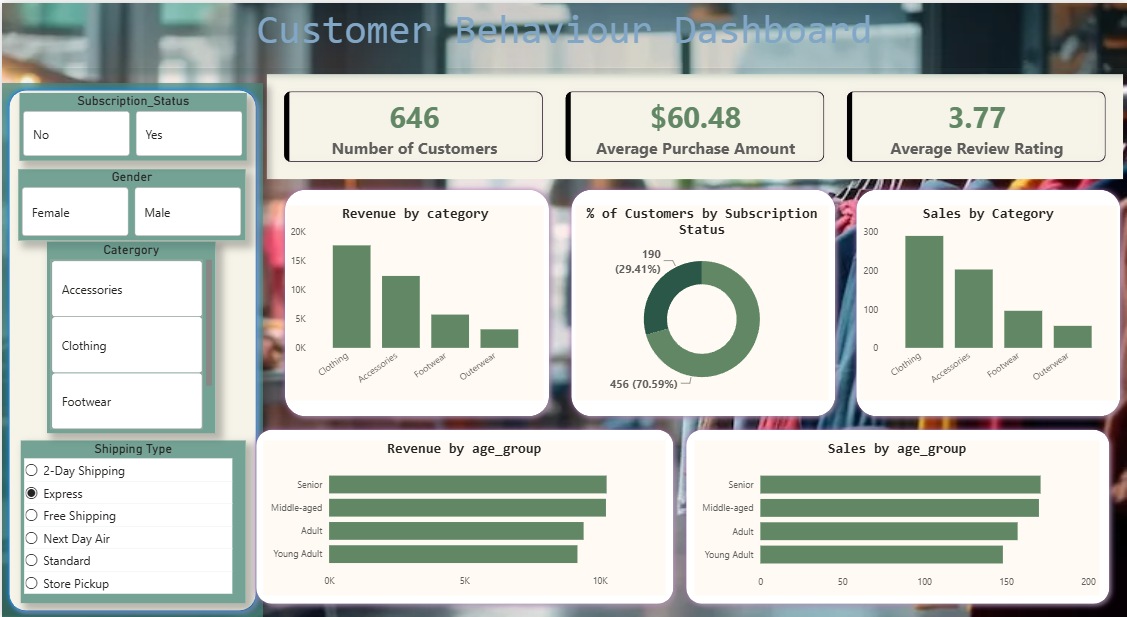

What the dashboard file says about the page in this screenshot:
{"tool":"powerbi","page":{"name":"Page 1","canvas":[1500,820],"ordinal":0},"visuals":[{"type":"cardVisual","fields":{"Data":["customer_behavior customer_data.Number of Customers","customer_behavior customer_data.Average Purchase Amount","customer_behavior customer_data.Average Review Rating"]},"box":[348.3,90,1151.7,150],"z":0},{"type":"textbox","box":[0,0,1500,86.7],"z":2000},{"type":"shape","box":[368,240,370,320],"z":3000},{"type":"shape","box":[750,240,370,320],"z":4000},{"type":"shape","box":[1130,240,370,320],"z":5000},{"type":"clusteredColumnChart","title":"Revenue by category","fields":{"Y":["Sum(customer_behavior customer_data.purchase_amount)"],"Category":["customer_behavior customer_data.category"]},"box":[380,270,342,260],"z":6000},{"type":"clusteredColumnChart","title":"Sales by Category","fields":{"Category":["customer_behavior customer_data.category"],"Y":["CountNonNull(customer_behavior customer_data.customer_id)"]},"box":[1143.3,270,343.3,260],"z":7000},{"type":"donutChart","title":"% of Customers by Subscription Status","fields":{"Category":["customer_behavior customer_data.subscription_status"],"Y":["CountNonNull(customer_behavior customer_data.customer_id)"]},"box":[765,270,336.7,260],"z":8000},{"type":"shape","box":[0,106.7,348.3,713.3],"z":9000},{"type":"advancedSlicerVisual","title":"Subscription_Status","fields":{"Values":["customer_behavior customer_data.subscription_status"]},"box":[23.3,120,303.3,90],"z":10000},{"type":"advancedSlicerVisual","title":"Gender","fields":{"Values":["customer_behavior customer_data.gender"]},"box":[21.7,221.7,303.3,95],"z":11000},{"type":"advancedSlicerVisual","title":"Catergory","fields":{"Values":["customer_behavior customer_data.category"]},"box":[60,318.3,225,255],"z":12000},{"type":"listSlicer","title":"Shipping Type","fields":{"Values":["customer_behavior customer_data.shipping_type"]},"box":[25,583.3,300,216.7],"z":13000},{"type":"shape","box":[904,560,582,250],"z":14000},{"type":"clusteredBarChart","title":"Sales by age_group","fields":{"Category":["customer_behavior customer_data.age_group"],"Y":["CountNonNull(customer_behavior customer_data.customer_id)"]},"box":[923.3,583.3,540,206.7],"z":15000},{"type":"shape","box":[330,560,574,250],"z":16000},{"type":"clusteredBarChart","title":"Revenue by age_group","fields":{"Category":["customer_behavior customer_data.age_group"],"Y":["Sum(customer_behavior customer_data.purchase_amount)"]},"box":[348,584,536,206],"z":17000}]}

Visuals, with their boxes in screenshot pixels (x1, y1, x2, y2), scaled from the page's 1500x820 canvas onto the 1127x617 screenshot:
cardVisual - customer_behavior customer_data.Number of Customers x customer_behavior customer_data.Average Purchase Amount: <region>262, 68, 1126, 181</region>
textbox: <region>0, 0, 1126, 65</region>
shape: <region>276, 181, 554, 421</region>
shape: <region>564, 181, 841, 421</region>
shape: <region>849, 181, 1126, 421</region>
"Revenue by category" clusteredColumnChart: <region>286, 203, 542, 399</region>
"Sales by Category" clusteredColumnChart: <region>859, 203, 1117, 399</region>
"% of Customers by Subscription Status" donutChart: <region>575, 203, 828, 399</region>
shape: <region>0, 80, 262, 616</region>
"Subscription_Status" advancedSlicerVisual: <region>18, 90, 245, 158</region>
"Gender" advancedSlicerVisual: <region>16, 167, 244, 238</region>
"Catergory" advancedSlicerVisual: <region>45, 240, 214, 431</region>
"Shipping Type" listSlicer: <region>19, 439, 244, 602</region>
shape: <region>679, 421, 1116, 609</region>
"Sales by age_group" clusteredBarChart: <region>694, 439, 1099, 594</region>
shape: <region>248, 421, 679, 609</region>
"Revenue by age_group" clusteredBarChart: <region>261, 439, 664, 594</region>
